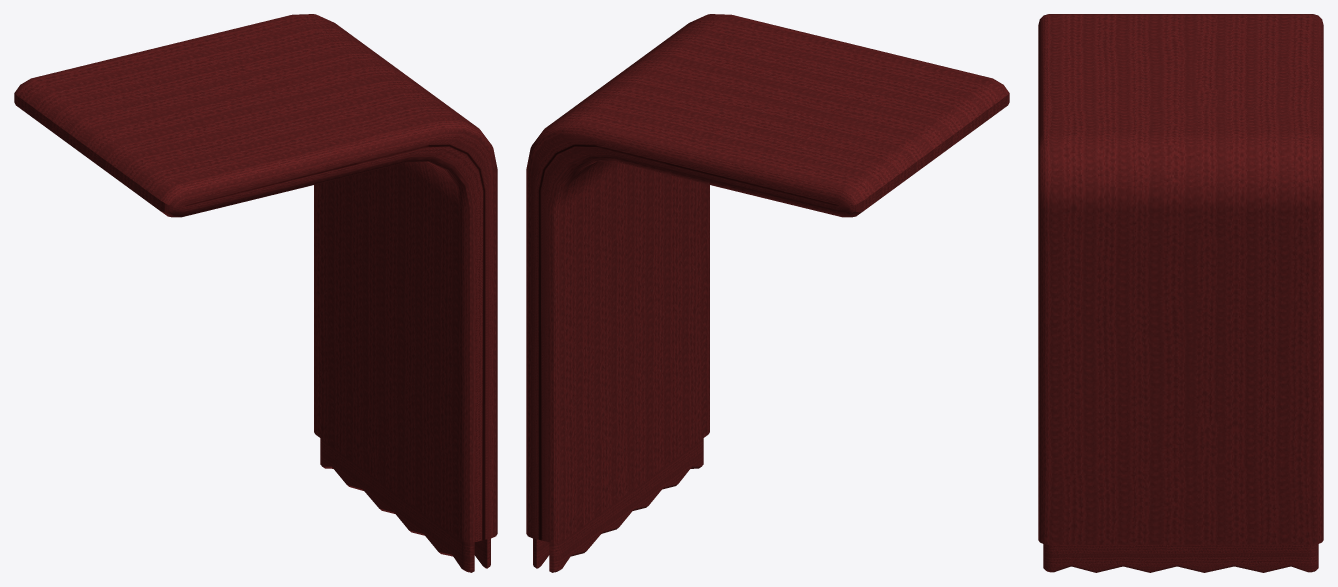
File: Mesh_Kitchen_Towel.fbx
The picture shows the model from 3 angles, left to right: view 1: azimuth 30°, elevation 25°; view 2: azimuth 150°, elevation 25°; view 3: azimuth 270°, elevation 25°; orthographic projection. The views are drawn at different scales.
Parts seen in each view (by area): view 1: Mesh_Scarf; view 2: Mesh_Scarf; view 3: Mesh_Scarf.
Part boxes in pixels (<box>): Mesh_Scarf: <box>14,14,497,572</box>; Mesh_Scarf: <box>526,14,1009,572</box>; Mesh_Scarf: <box>1038,14,1323,572</box>.
Bounding box in the file's own units: 14.9 × 19.46 × 12.
Materials: 1 (1 with a texture image).
